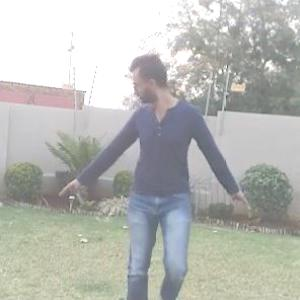land: (57, 62, 276, 299)
